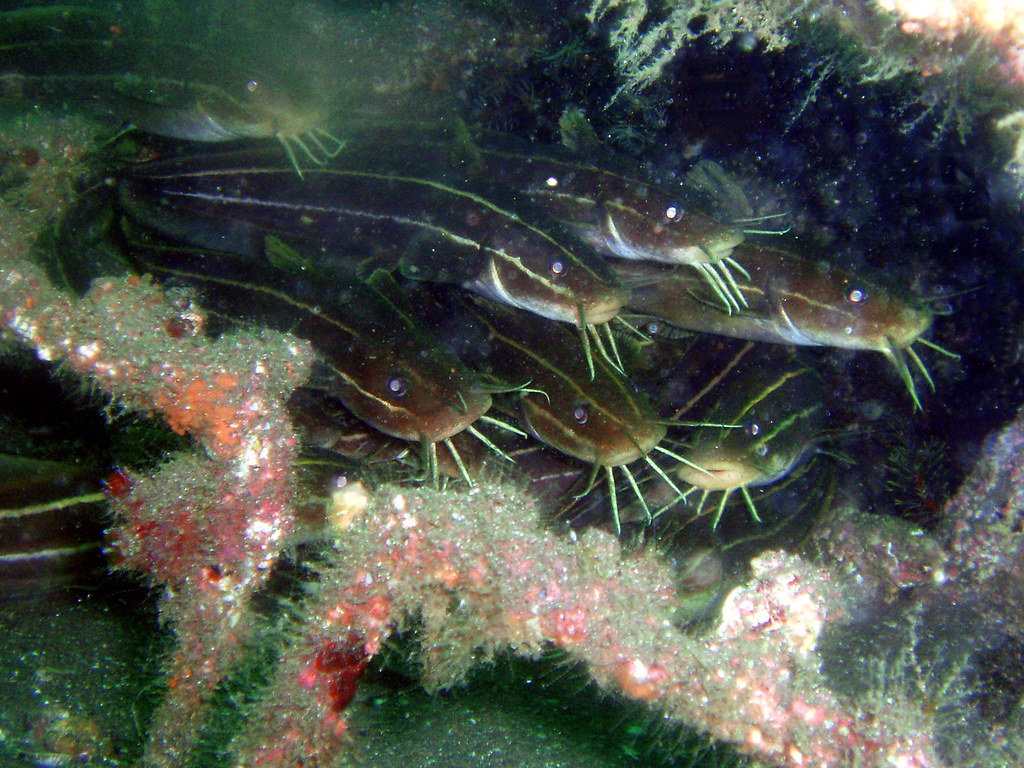gonzui: (102, 133, 642, 335)
